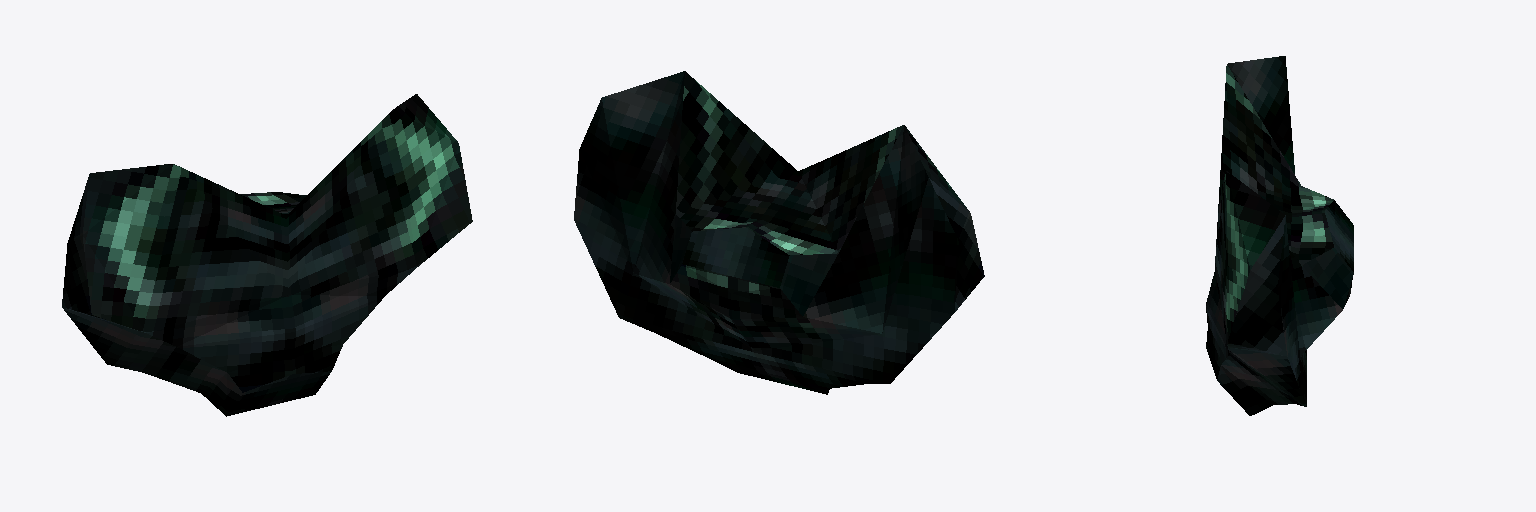
The picture shows the model from 3 angles: view 1: azimuth 30°, elevation 25°; view 2: azimuth 150°, elevation 25°; view 3: azimuth 270°, elevation 25°; orthographic projection.
Parts seen in each view (by area): view 1: Base; view 2: Base; view 3: Base.
Part boxes in pixels (bbox=[...]): Base: bbox=[62, 94, 472, 416]; Base: bbox=[574, 71, 984, 394]; Base: bbox=[1206, 56, 1353, 415].
Size of the model in its own units: 0.6151 by 0.4282 by 0.2076.
Materials: 1 (1 with a texture image).